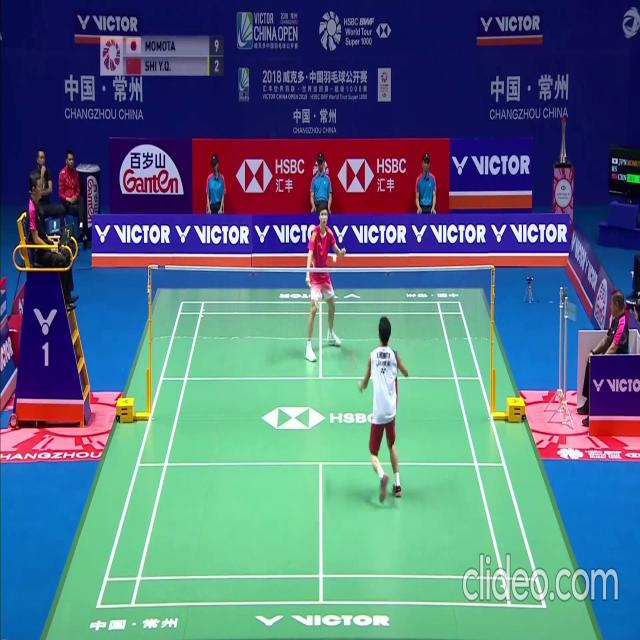Shuttlecock: (332, 254, 336, 262)
